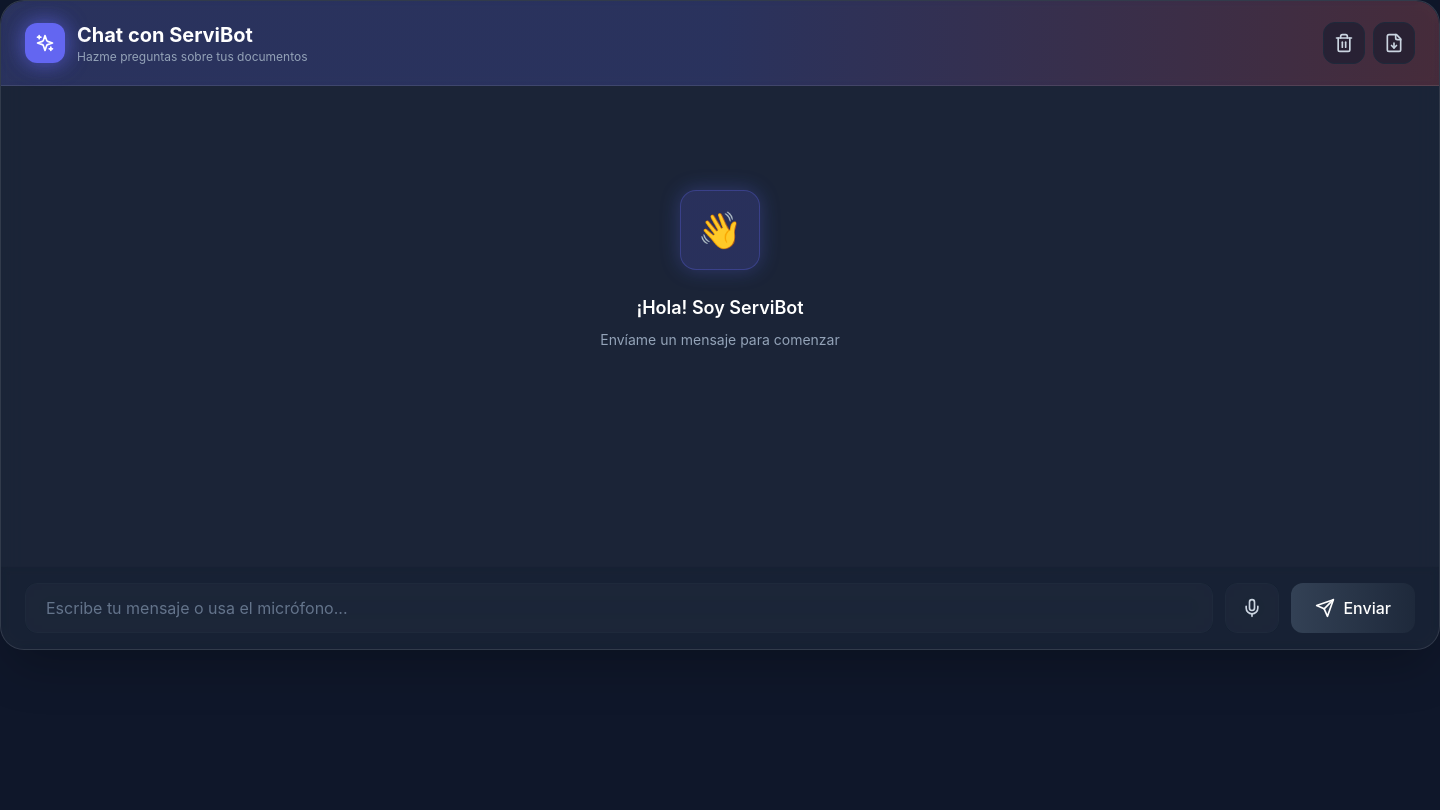
Test: ChatInterface › enables send button when input has text
Type "Test message" into the field with placeholder "Escribe tu mensaje o usa el micrófono...". click: (619, 608)
box: [25,583,1214,633]
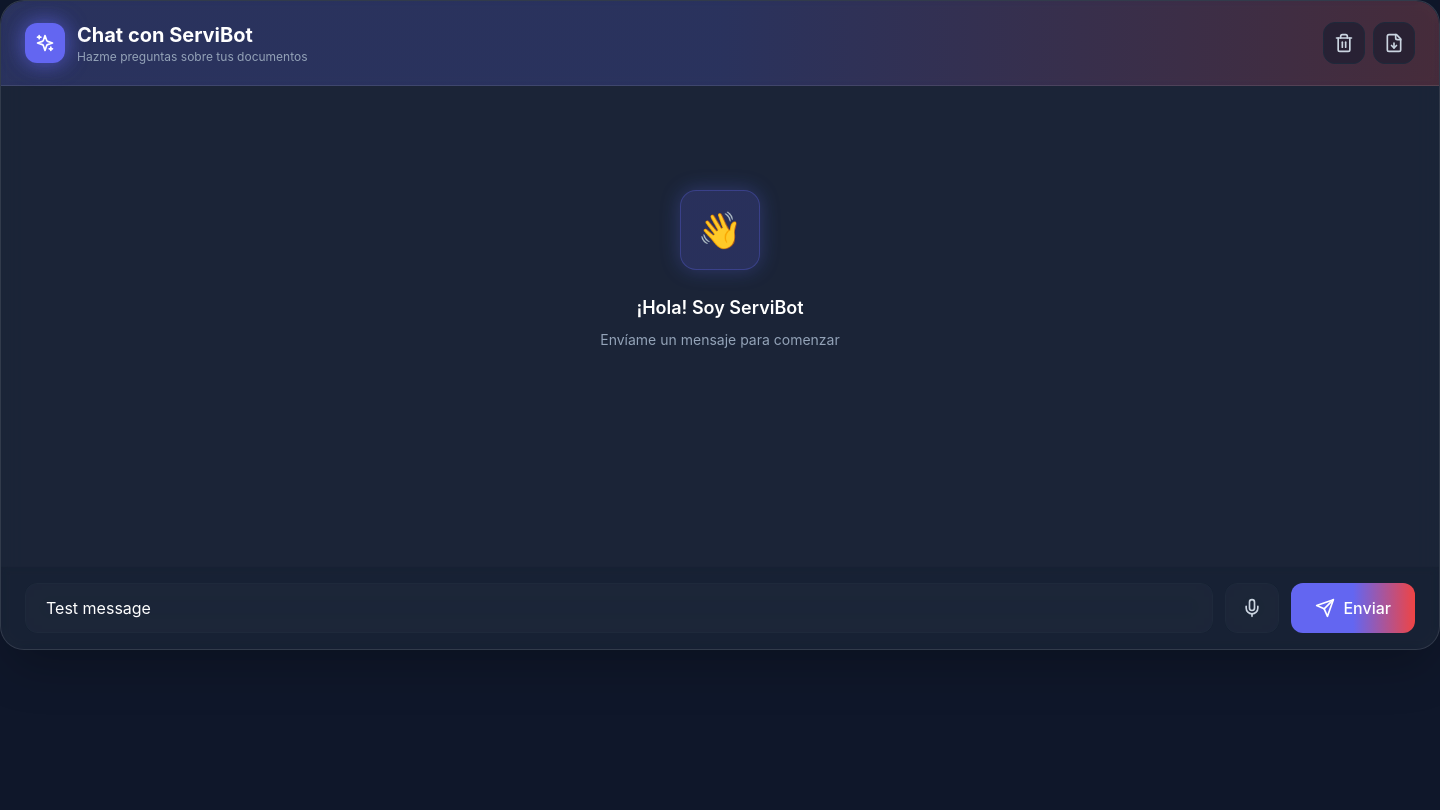
Check: the button with aria-label "Enviar mensaje" is enabled, box [1292,583,1415,633]
